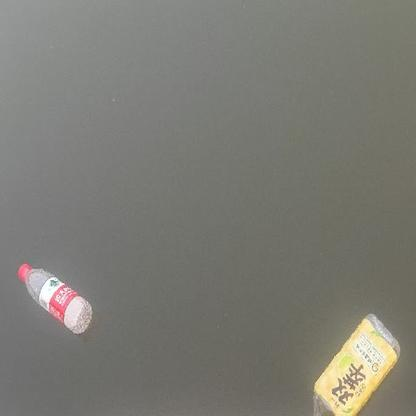plastic bottle: (310, 315, 400, 416), (16, 263, 93, 335)
